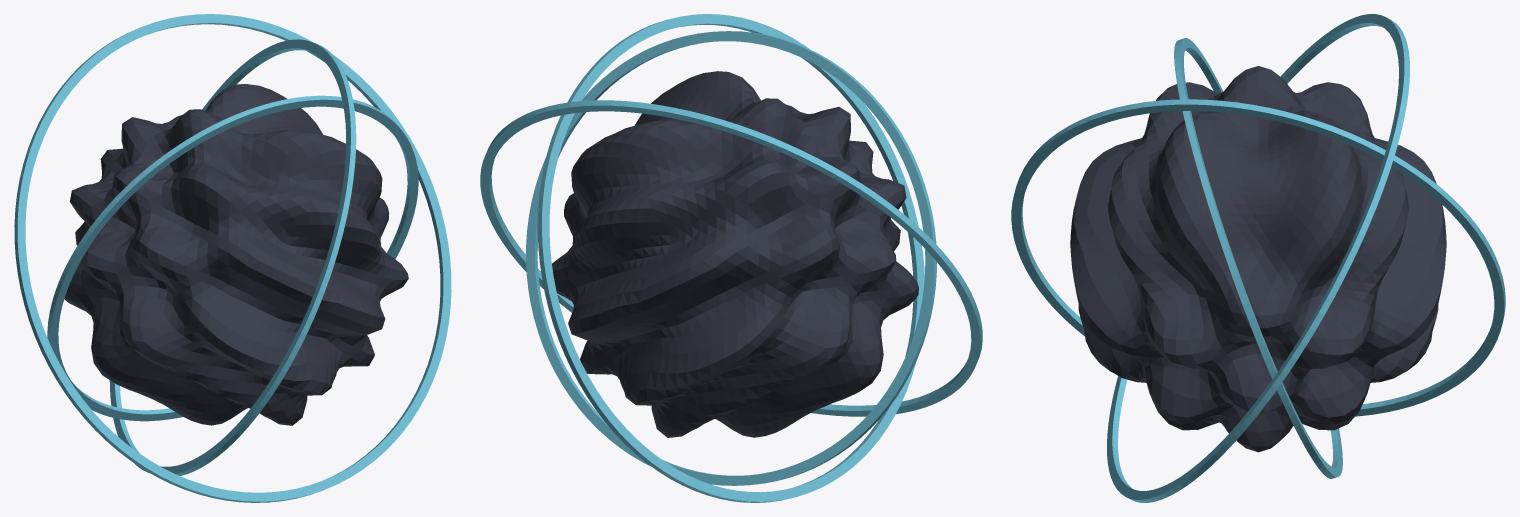
Rendered from gpu-artifact.glb.
3 renders of one model, left to right at view 1: azimuth 30°, elevation 25°; view 2: azimuth 150°, elevation 25°; view 3: azimuth 270°, elevation 25°, orthographic. The views are drawn at different scales.
Parts seen in each view (by area): view 1: reality-shader-forge_obsidian_core, reality-shader-forge_orbital_ring_2, reality-shader-forge_orbital_ring_0, reality-shader-forge_orbital_ring_1; view 2: reality-shader-forge_obsidian_core, reality-shader-forge_orbital_ring_1, reality-shader-forge_orbital_ring_0, reality-shader-forge_orbital_ring_2; view 3: reality-shader-forge_obsidian_core, reality-shader-forge_orbital_ring_1, reality-shader-forge_orbital_ring_2, reality-shader-forge_orbital_ring_0.
Boxes of the visible parts, <box> form: reality-shader-forge_obsidian_core: <box>64,84,408,425</box>; reality-shader-forge_orbital_ring_2: <box>14,14,451,502</box>; reality-shader-forge_orbital_ring_0: <box>47,95,418,421</box>; reality-shader-forge_orbital_ring_1: <box>109,39,356,475</box>; reality-shader-forge_obsidian_core: <box>552,71,918,437</box>; reality-shader-forge_orbital_ring_1: <box>537,14,924,502</box>; reality-shader-forge_orbital_ring_0: <box>526,31,936,485</box>; reality-shader-forge_orbital_ring_2: <box>480,100,982,416</box>; reality-shader-forge_obsidian_core: <box>1070,66,1446,452</box>; reality-shader-forge_orbital_ring_1: <box>1011,99,1505,416</box>; reality-shader-forge_orbital_ring_2: <box>1107,14,1409,502</box>; reality-shader-forge_orbital_ring_0: <box>1174,38,1342,478</box>.
Bounding box in the file's own units: 3.23 × 2.75 × 2.93.
